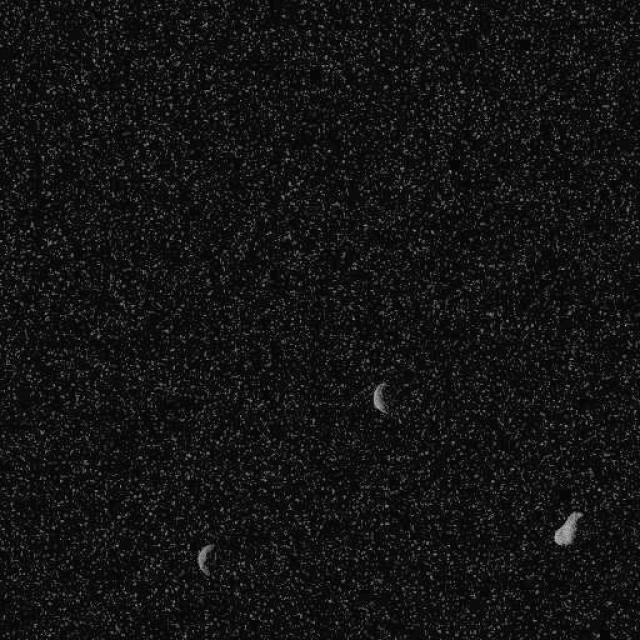D2: (552, 510, 582, 546), (196, 542, 216, 578), (371, 381, 390, 415)
